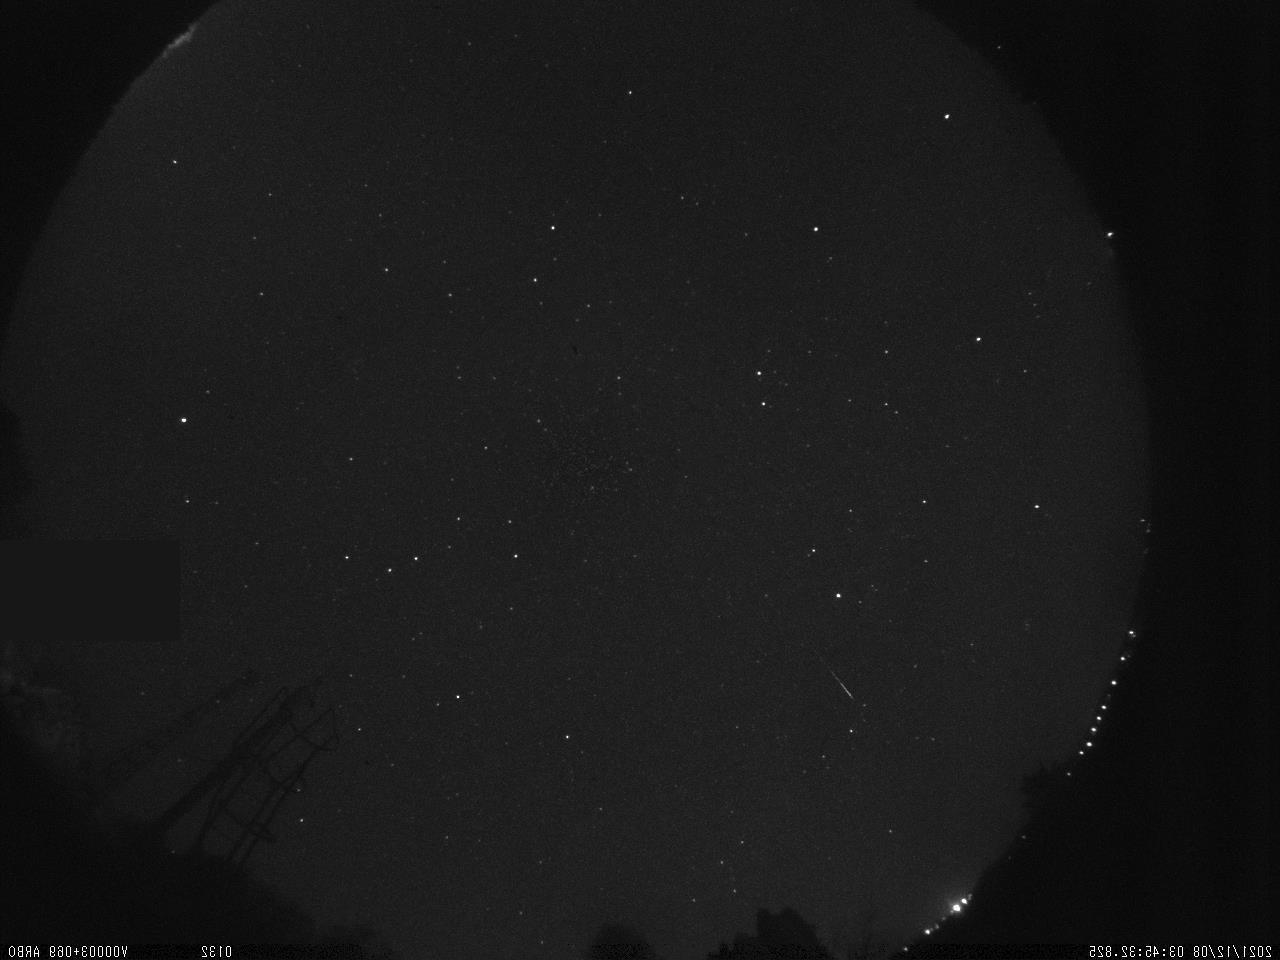meteor: (794, 646, 873, 711)
